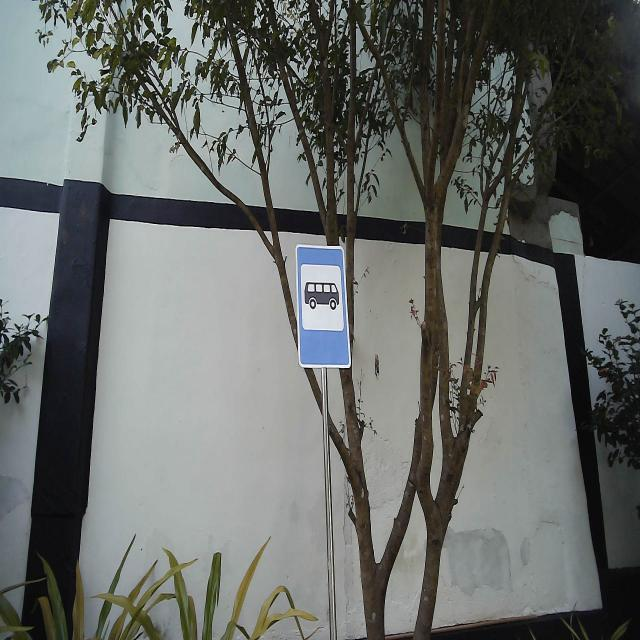bus_stop: (294, 242, 354, 372)
